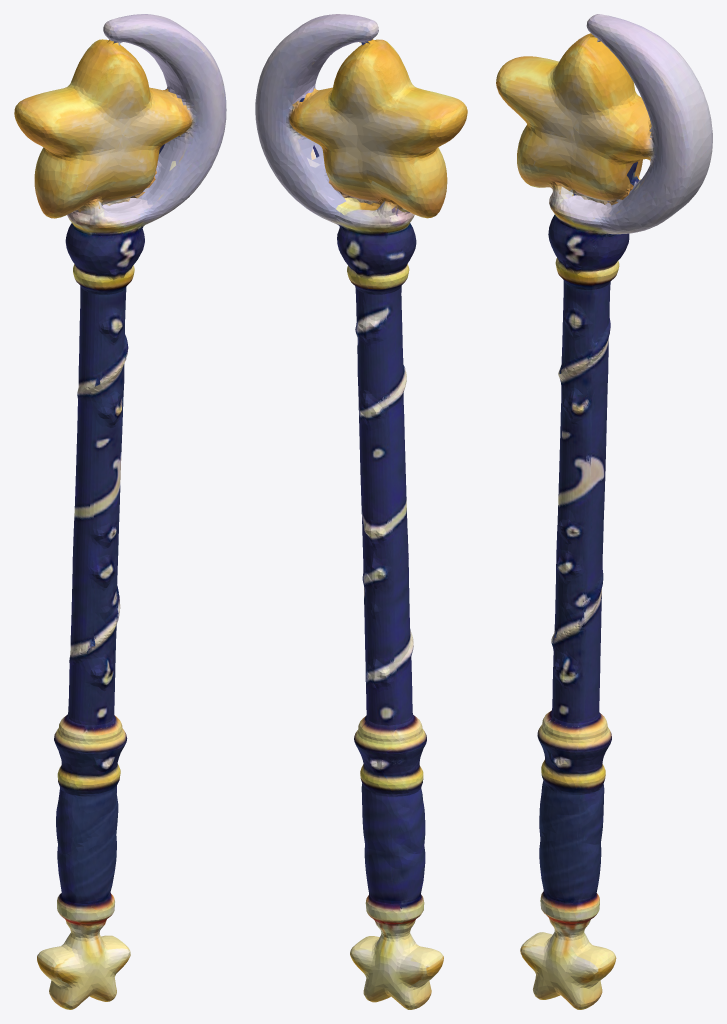
Rendered from wand_stars.glb.
3 renders of one model, left to right at view 1: azimuth 30°, elevation 25°; view 2: azimuth 150°, elevation 25°; view 3: azimuth 330°, elevation 25°, orthographic. The views are drawn at different scales.
Visible parts, largest first — view 1: tmpotcl8iy0.ply; view 2: tmpotcl8iy0.ply; view 3: tmpotcl8iy0.ply.
Part boxes in pixels (x1,y1,x2,y2): tmpotcl8iy0.ply: (14,14,226,1009); tmpotcl8iy0.ply: (255,14,467,1009); tmpotcl8iy0.ply: (496,14,712,1009).
Size of the model in its own units: 0.2113 by 1 by 0.0695.
Materials: 1 (1 with a texture image).
